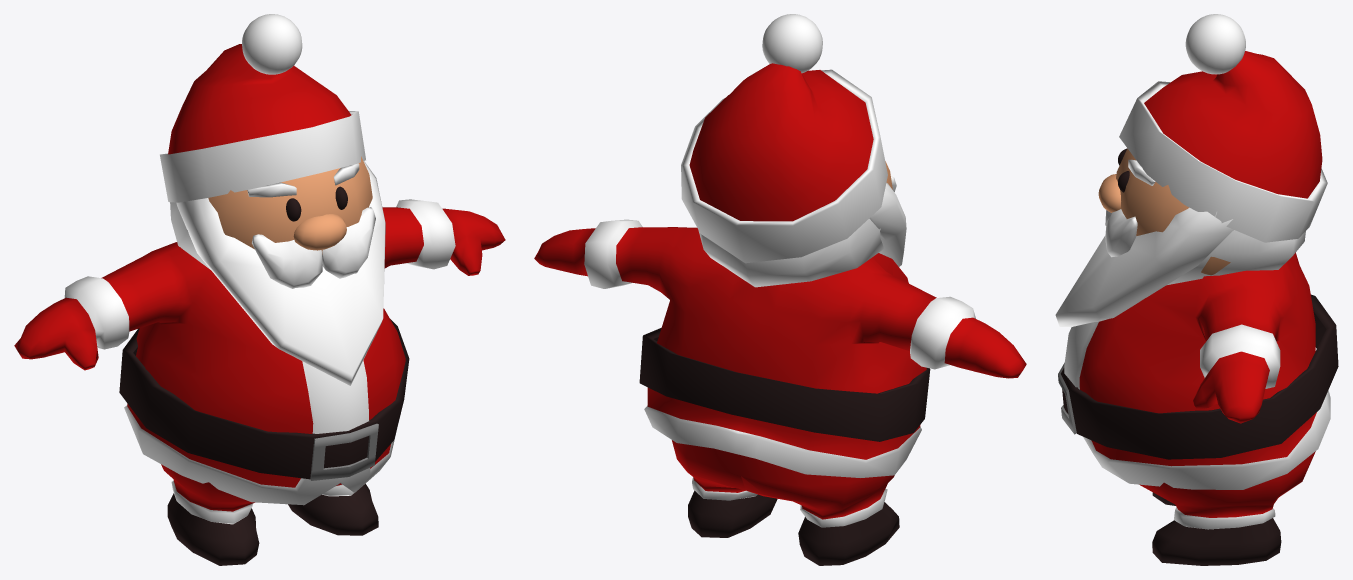
File: SantaClaus.glb
3 renders of one model, left to right at view 1: azimuth 30°, elevation 25°; view 2: azimuth 150°, elevation 25°; view 3: azimuth 270°, elevation 25°, orthographic.
Visible parts, largest first — view 1: shirt, hat, beard, belt, legs, head, moustache, belt2, nose, eye_brows, hair; view 2: shirt, hat, legs, belt, hair, beard; view 3: shirt, hat, belt, legs, beard, head, hair, moustache, nose, belt2.
Part boxes in pixels (x1,y1,x2,y2): shirt: (14, 199, 505, 505); hat: (160, 14, 365, 202); beard: (176, 161, 385, 385); belt: (119, 319, 409, 479); legs: (161, 464, 378, 565); head: (208, 156, 372, 254); moustache: (252, 207, 375, 288); belt2: (310, 423, 378, 480); nose: (293, 214, 346, 250); eye_brows: (247, 163, 359, 197); hair: (170, 202, 210, 269); shirt: (534, 219, 1026, 477); hat: (681, 14, 887, 263); legs: (672, 440, 899, 565); belt: (639, 328, 930, 441); hair: (698, 218, 883, 287); beard: (869, 183, 906, 266); shirt: (1064, 252, 1330, 489); hat: (1119, 14, 1327, 242); belt: (1060, 294, 1338, 459); legs: (1139, 451, 1315, 565); beard: (1055, 207, 1233, 326); head: (1116, 149, 1230, 275); hair: (1167, 212, 1305, 284); moustache: (1105, 209, 1137, 257); nose: (1098, 174, 1120, 212); belt2: (1058, 363, 1076, 434).
Bounding box in the file's own units: 18.36 × 18.49 × 9.35.
